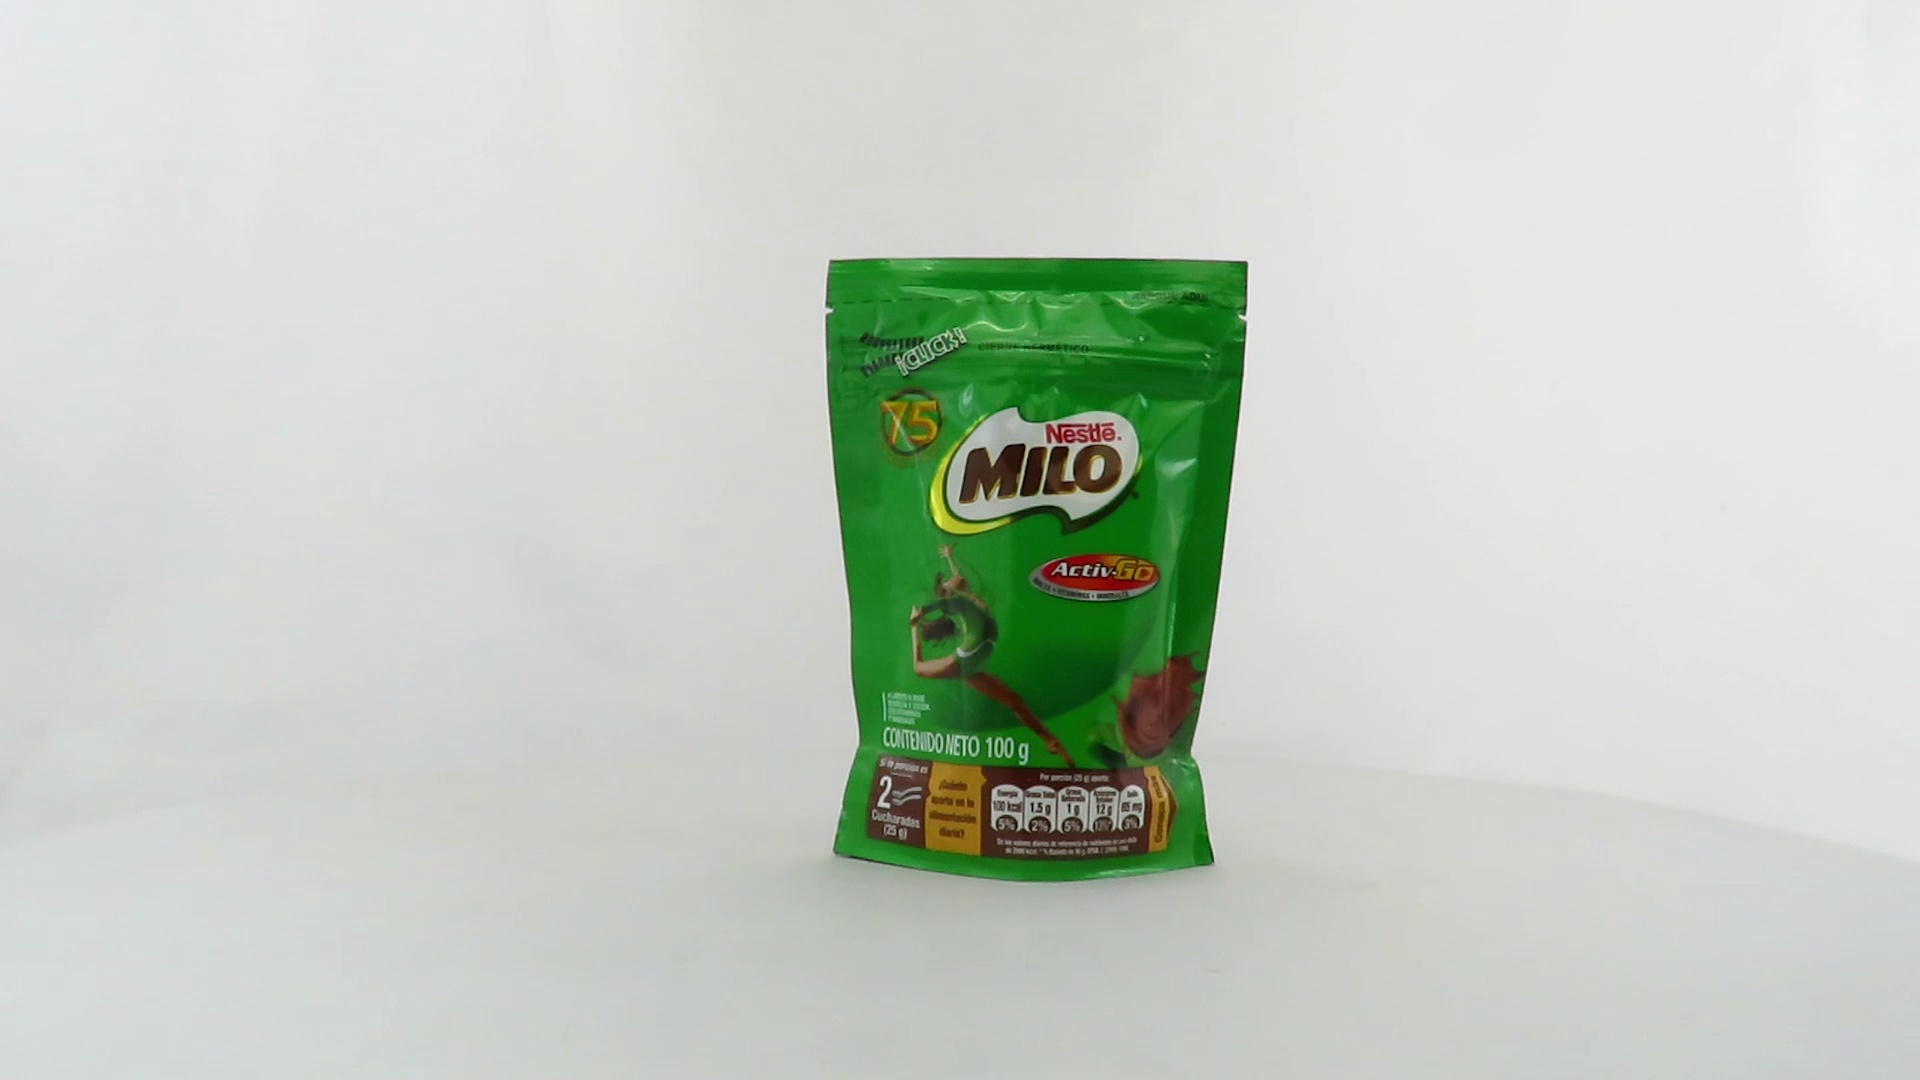COL0170203DYP10000: (820, 252, 1254, 889)
